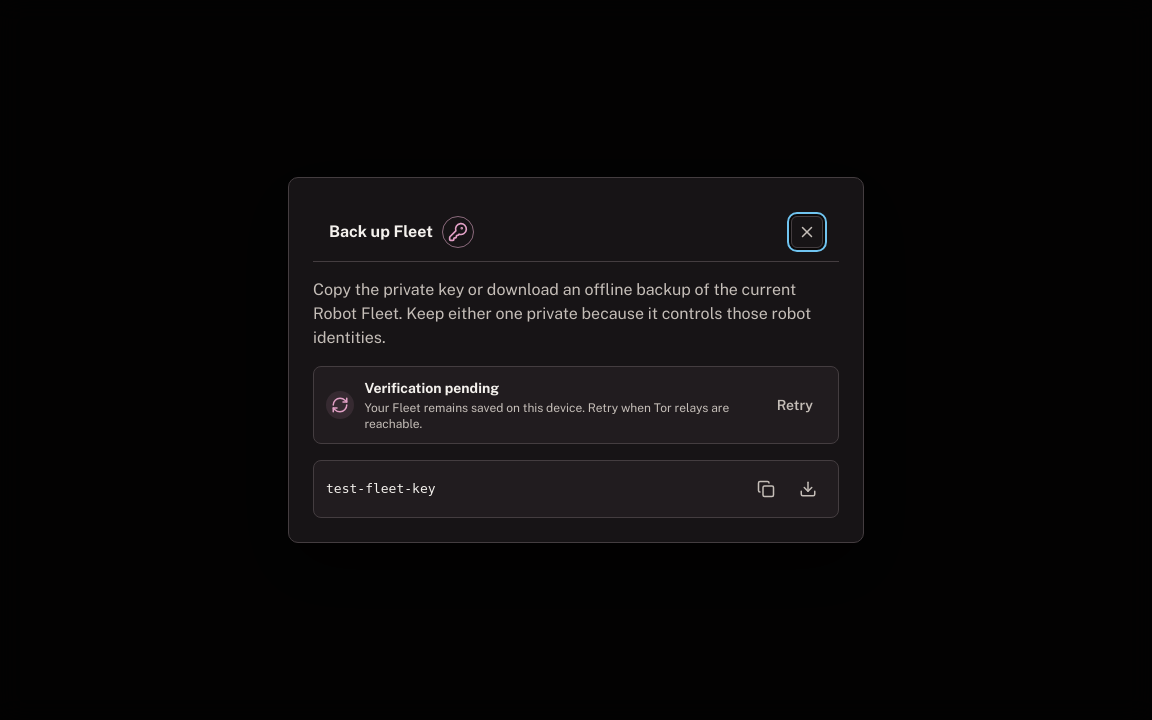
FleetKeyDialog › does not download until the local Robot Fleet is ready
This screenshot has width=1152, height=720.
Click the button named "Download offline Fleet backup" at [808, 489], box left=788, top=469, right=828, bottom=509
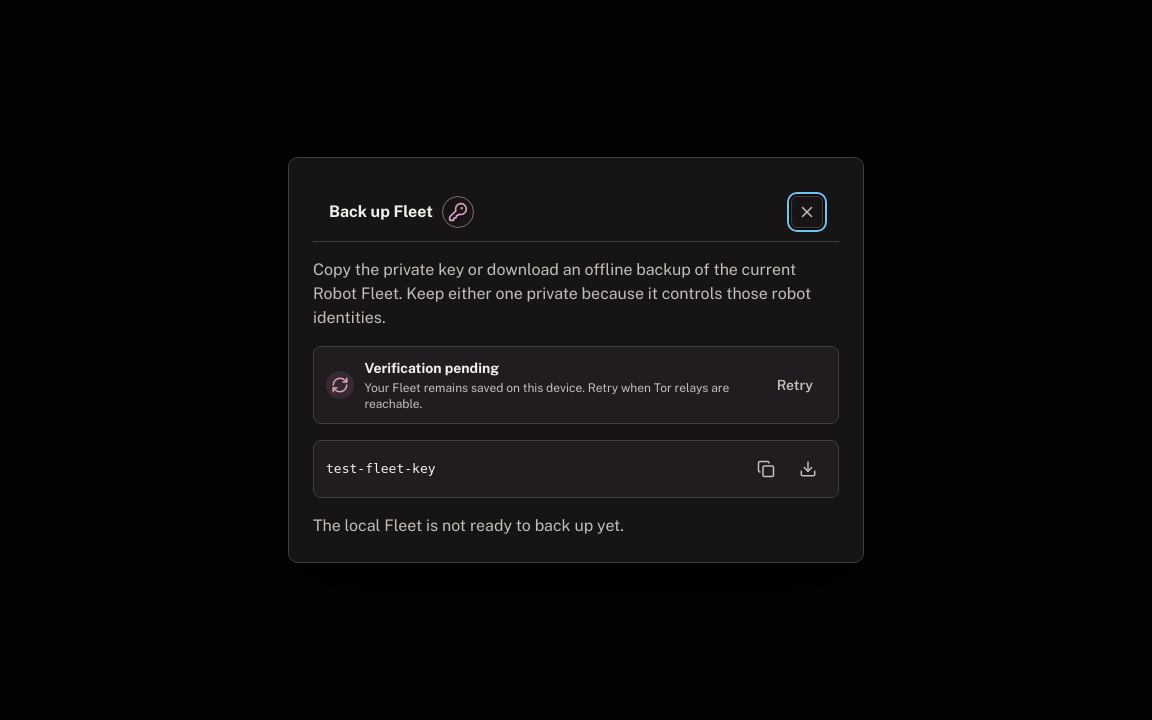
Check: the text "local Fleet is not ready to back up yet" is shown, box left=313, top=516, right=624, bottom=535
